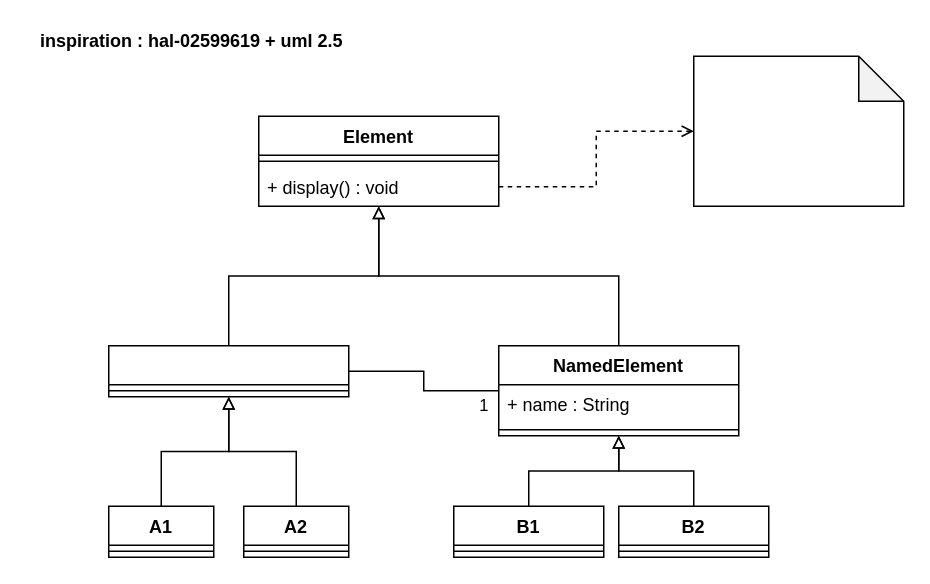
Image size: 930x584. Some labels were removed from this diagram. The centre of each missing label's shape, as x and y in pixels:
"affiche le nom de la classe dynamique dans la console" goes at point 798,130.
"SuperA" goes at point 228,370.
